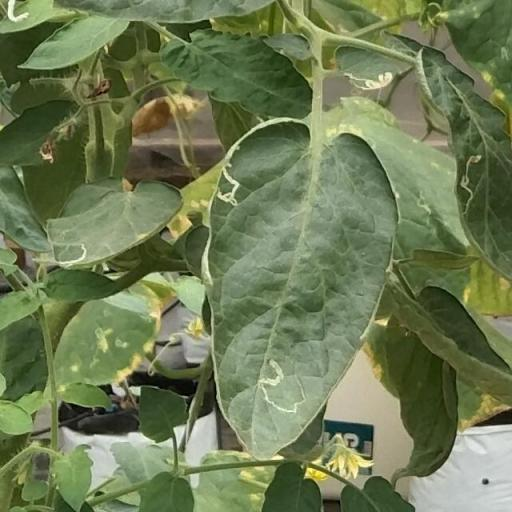disease_tomato: (204, 120, 402, 466), (330, 38, 416, 92)
